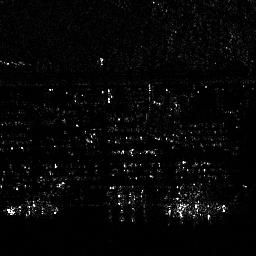ship: (163, 201, 228, 218), (4, 203, 59, 216)
